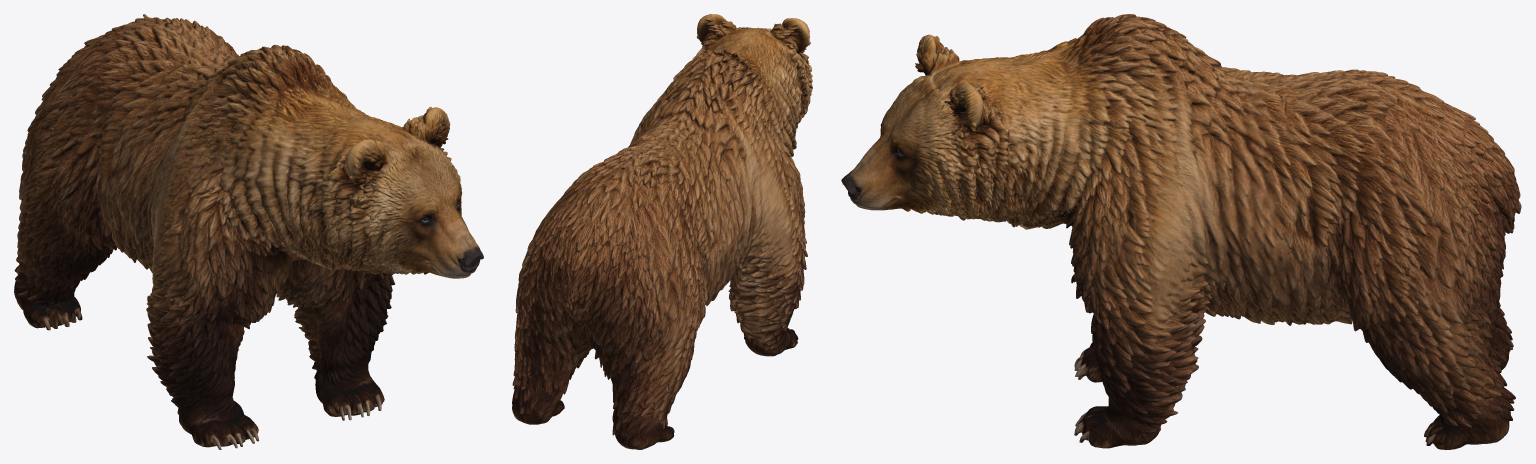
The model's file is bear.glb.
3 views of the same model, side by side, from view 1: azimuth 30°, elevation 25°; view 2: azimuth 150°, elevation 25°; view 3: azimuth 270°, elevation 25° (orthographic). The views are drawn at different scales.
Visible parts, largest first — view 1: bear; view 2: bear; view 3: bear.
Part boxes in pixels (box(x1,y1,x2,y2)): bear: box(14, 14, 483, 449); bear: box(512, 14, 812, 449); bear: box(841, 14, 1521, 449).
Size of the model in its own units: 0.8321 by 1.24 by 2.
Materials: 1 (1 with a texture image).
